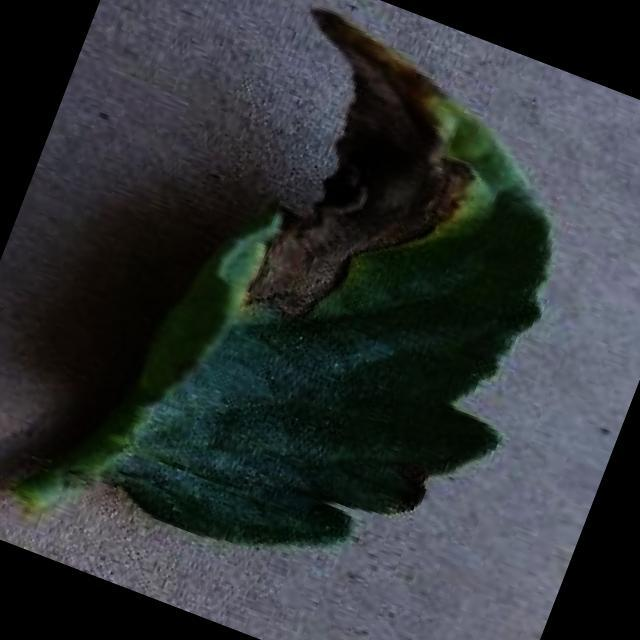Tomato Early blight leaf: (71, 0, 623, 614)
